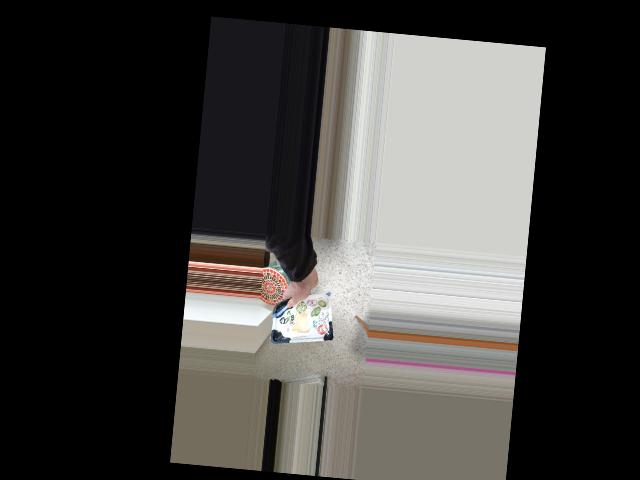cheese: (282, 279, 336, 332)
